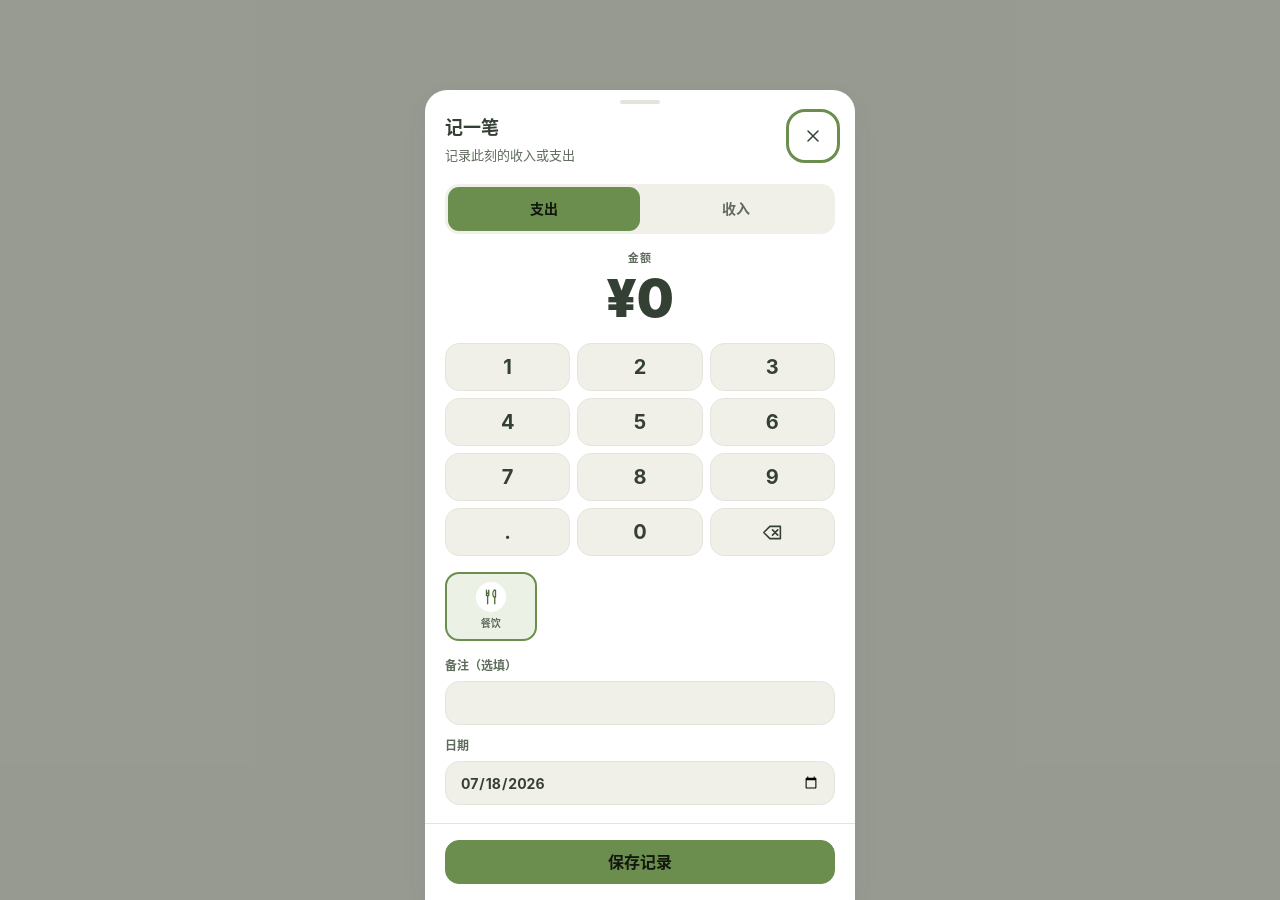
Test: shows an inline amount error and does not save zero
The width and height of the screenshot is (1280, 900).
Click the button "保存记录": (640, 862) 445,840 -> 835,884
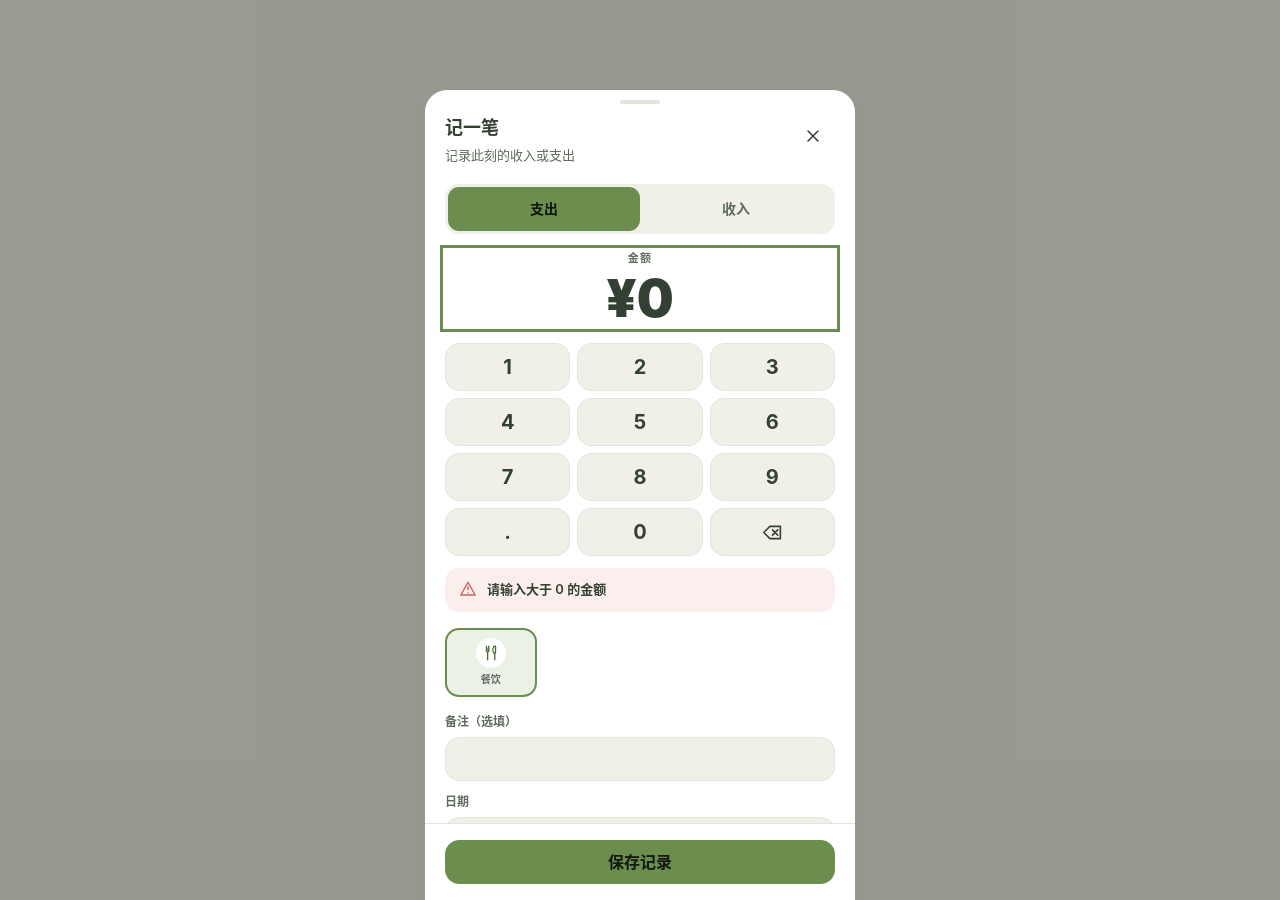
Check: the message reads "请输入大于 0 的金额", box 487,581 -> 606,597
